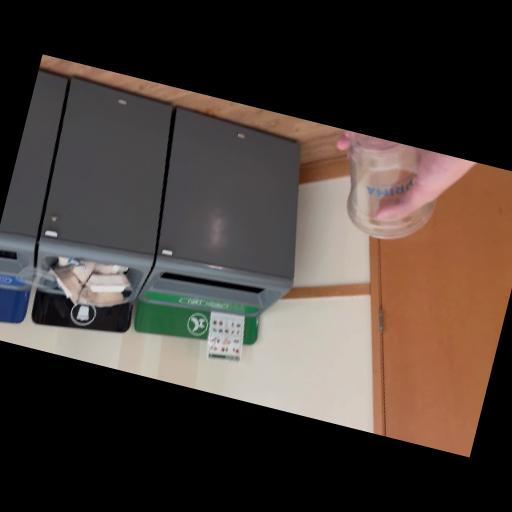lp_plastic_cup: (286, 122, 461, 257)
